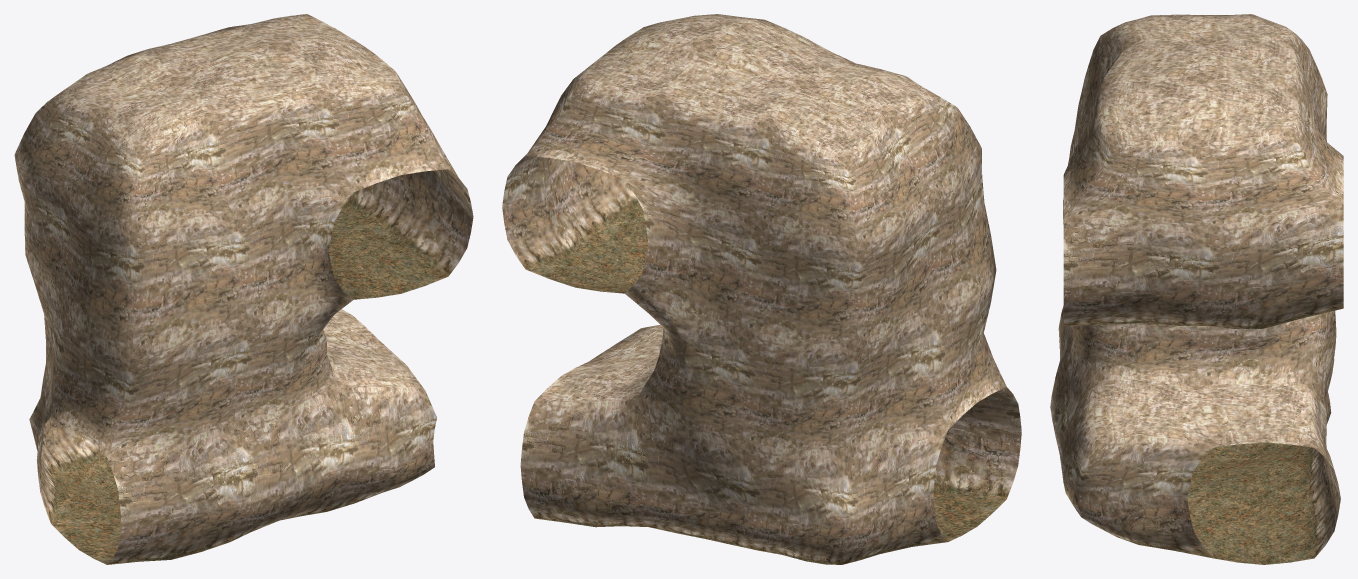
The model's file is thm_all_cave_flatland_s03_r16_mesh_r16.fbx.
3 views of the same model, side by side, from view 1: azimuth 30°, elevation 25°; view 2: azimuth 150°, elevation 25°; view 3: azimuth 270°, elevation 25° (orthographic). The views are drawn at different scales.
Visible parts, largest first — view 1: mesh_node; view 2: mesh_node; view 3: mesh_node.
Boxes of the visible parts, left/top/right/bottom form: mesh_node: left=14, top=14, right=473, bottom=564; mesh_node: left=502, top=14, right=1021, bottom=564; mesh_node: left=1050, top=14, right=1343, bottom=564.
Bounding box in the file's own units: 27.39 × 31.62 × 19.23.
